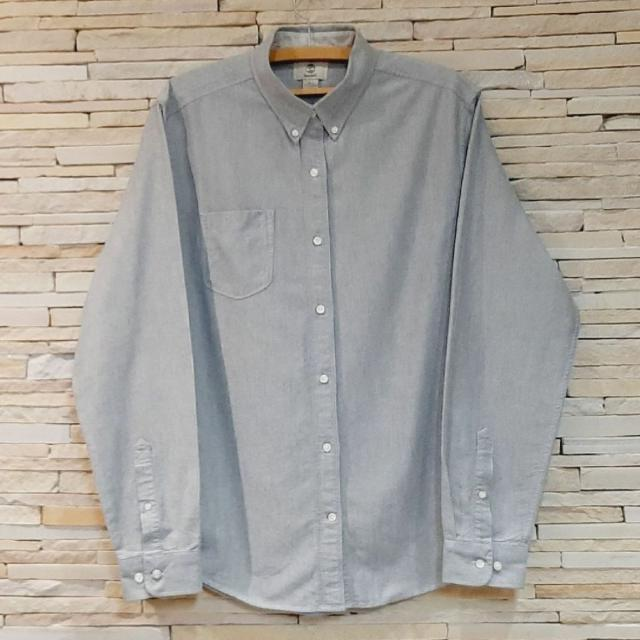long sleeve shirt: (69, 23, 586, 619)
